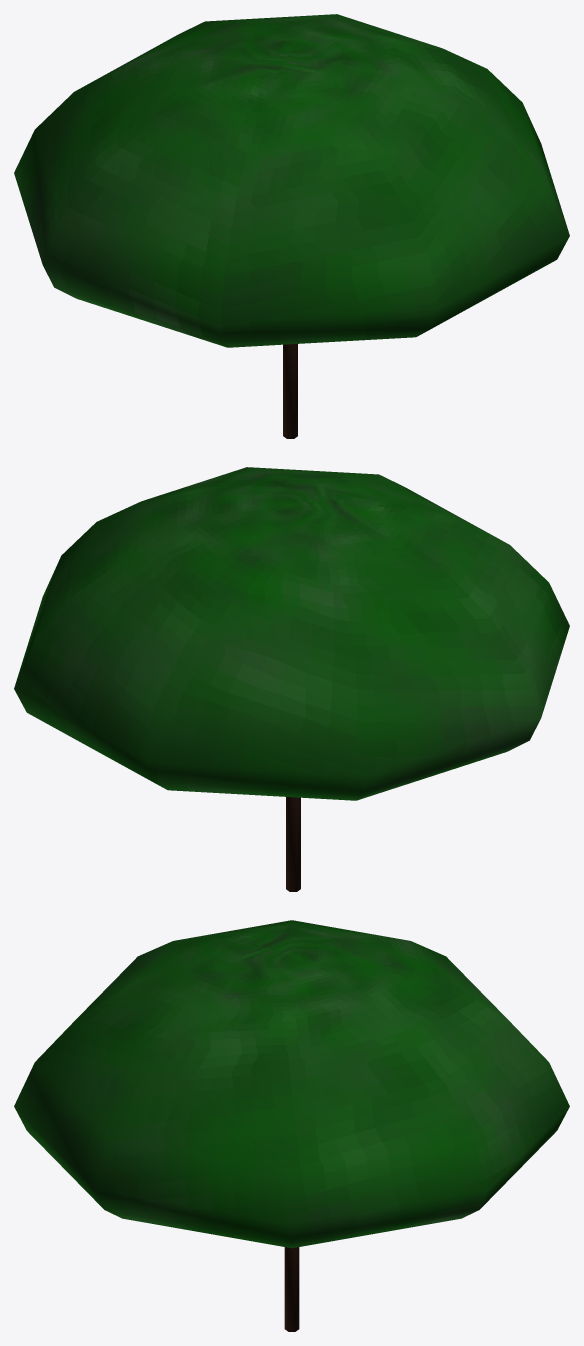
File: treeD.obj
The picture shows the model from 3 angles, top to bottom: view 1: azimuth 30°, elevation 25°; view 2: azimuth 150°, elevation 25°; view 3: azimuth 270°, elevation 25°; orthographic projection. The views are drawn at different scales.
Visible parts, largest first — view 1: Tree_D_TreeD, trunk; view 2: Tree_D_TreeD, trunk; view 3: Tree_D_TreeD, trunk.
Part boxes in pixels (x1,y1,x2,y2): Tree_D_TreeD: (14,14,569,347); trunk: (283,344,297,438); Tree_D_TreeD: (14,467,569,800); trunk: (286,797,300,891); Tree_D_TreeD: (14,920,569,1248); trunk: (284,1247,299,1331).
Size of the model in its own units: 1.51 by 1.12 by 1.51.
2 materials, 1 textured.
